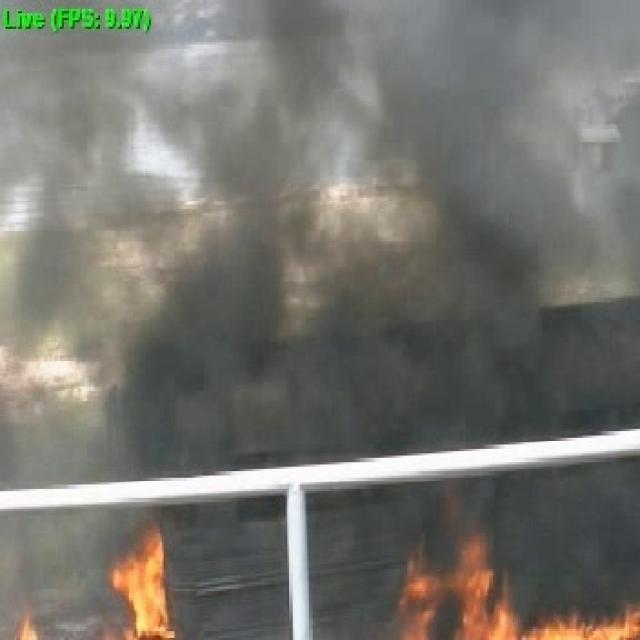Fire: (391, 487, 640, 640), (0, 504, 202, 640)
Smoke: (0, 0, 638, 486)
